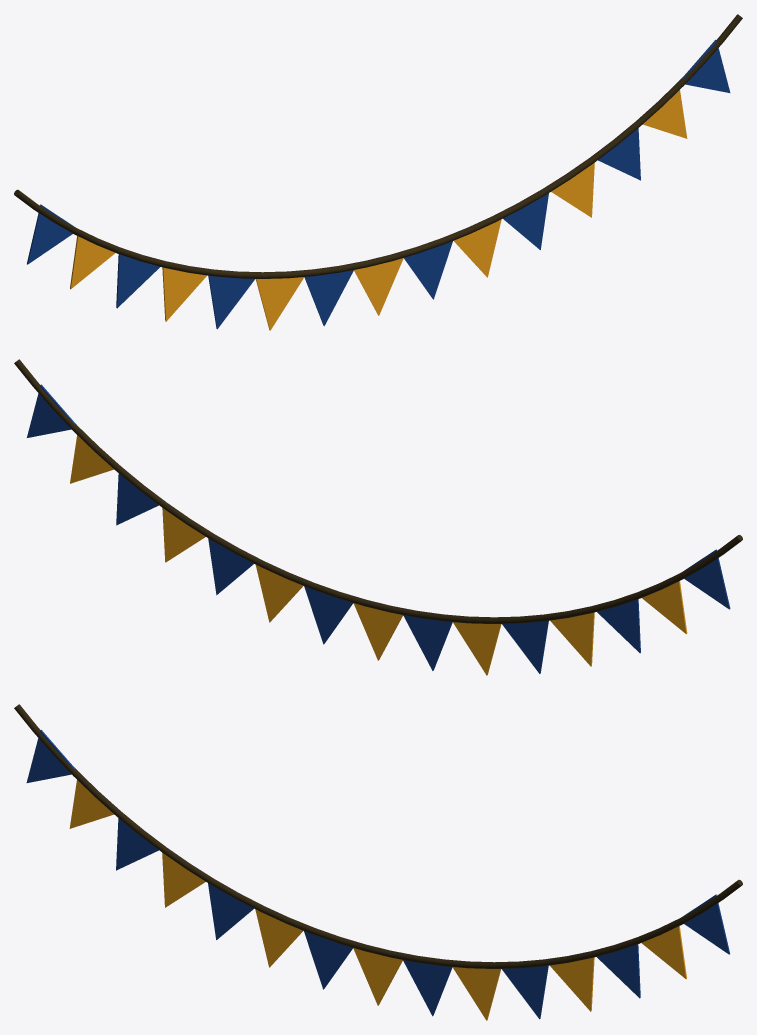
File: Banderitas .fbx
3 renders of one model, top to bottom at view 1: azimuth 30°, elevation 25°; view 2: azimuth 150°, elevation 25°; view 3: azimuth 330°, elevation 25°, orthographic.
Visible parts, largest first — view 1: Banderitas new, Wire curve; view 2: Banderitas new, Wire curve; view 3: Banderitas new, Wire curve.
Boxes of the visible parts, x1,y1,x2,y2 form: Banderitas new: (27, 39, 730, 330); Wire curve: (14, 14, 742, 278); Banderitas new: (27, 384, 730, 675); Wire curve: (14, 359, 742, 623); Banderitas new: (26, 729, 729, 1020); Wire curve: (14, 704, 742, 968).
Bounding box in the file's own units: 2380 × 667 × 19.46.
